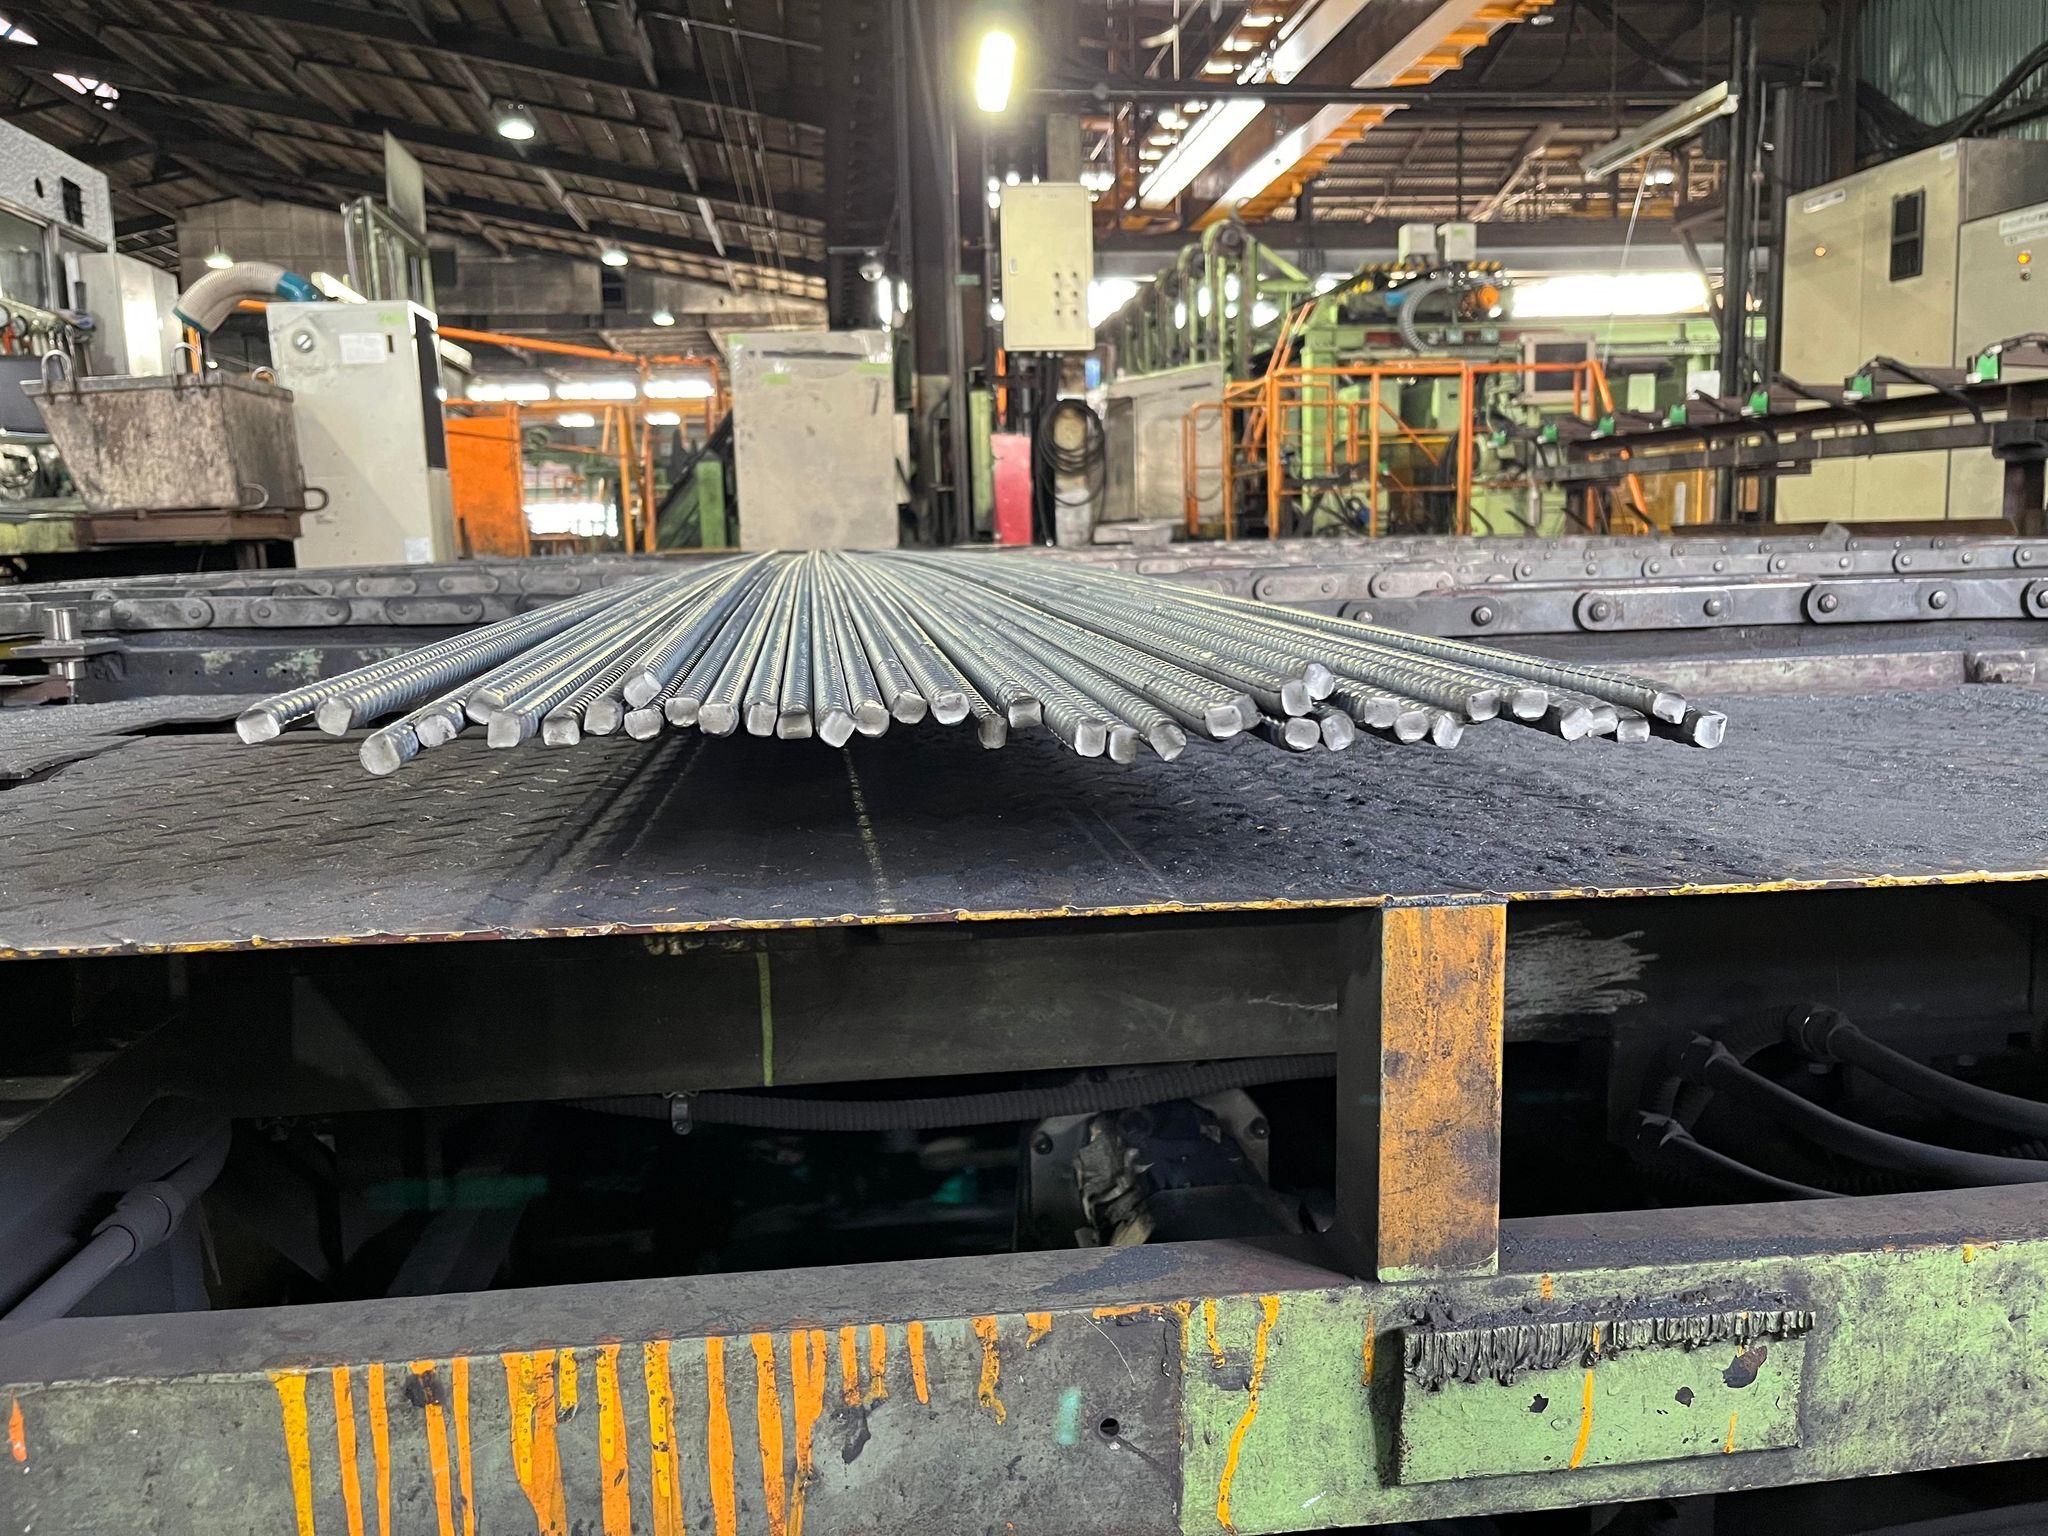rod: (356, 728, 405, 776), (463, 684, 510, 728), (1145, 718, 1192, 762), (232, 707, 281, 749), (311, 692, 355, 737), (816, 707, 861, 750), (1201, 700, 1245, 744), (539, 708, 584, 750), (413, 710, 460, 750), (697, 700, 742, 741), (582, 694, 622, 737), (619, 670, 664, 708), (484, 707, 522, 750), (622, 705, 666, 744), (1071, 715, 1108, 760), (930, 687, 972, 726), (1106, 721, 1142, 766), (1300, 660, 1338, 700), (855, 697, 892, 739), (1558, 702, 1595, 744), (1432, 708, 1467, 752), (1509, 686, 1553, 721), (776, 705, 814, 744), (1005, 694, 1043, 733), (742, 697, 779, 737), (1692, 710, 1729, 750), (1322, 712, 1359, 750), (1650, 689, 1688, 726), (1230, 691, 1266, 731), (1282, 716, 1322, 752), (1361, 694, 1401, 729), (890, 689, 929, 724), (1279, 678, 1314, 716), (1463, 687, 1501, 723), (1393, 708, 1430, 744), (976, 712, 1009, 750), (1585, 703, 1621, 739), (664, 695, 700, 729), (1614, 715, 1651, 747)
